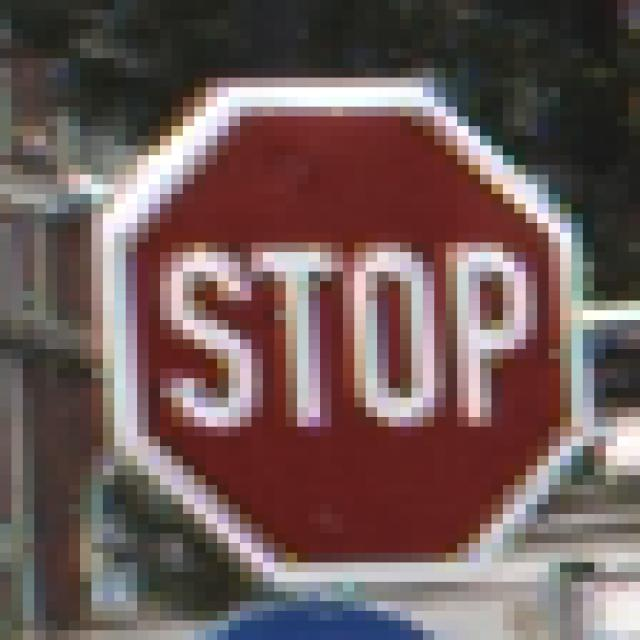STOP: (69, 59, 584, 583)
